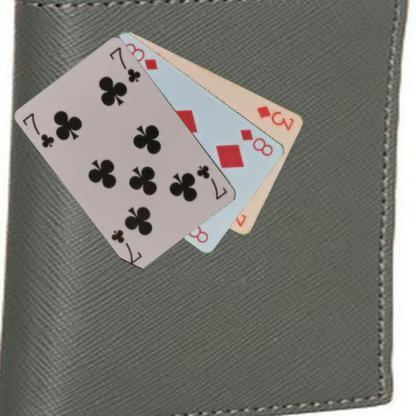3d: (254, 103, 296, 132)
7c: (19, 110, 56, 150), (194, 162, 230, 201)
8d: (237, 126, 275, 158)
